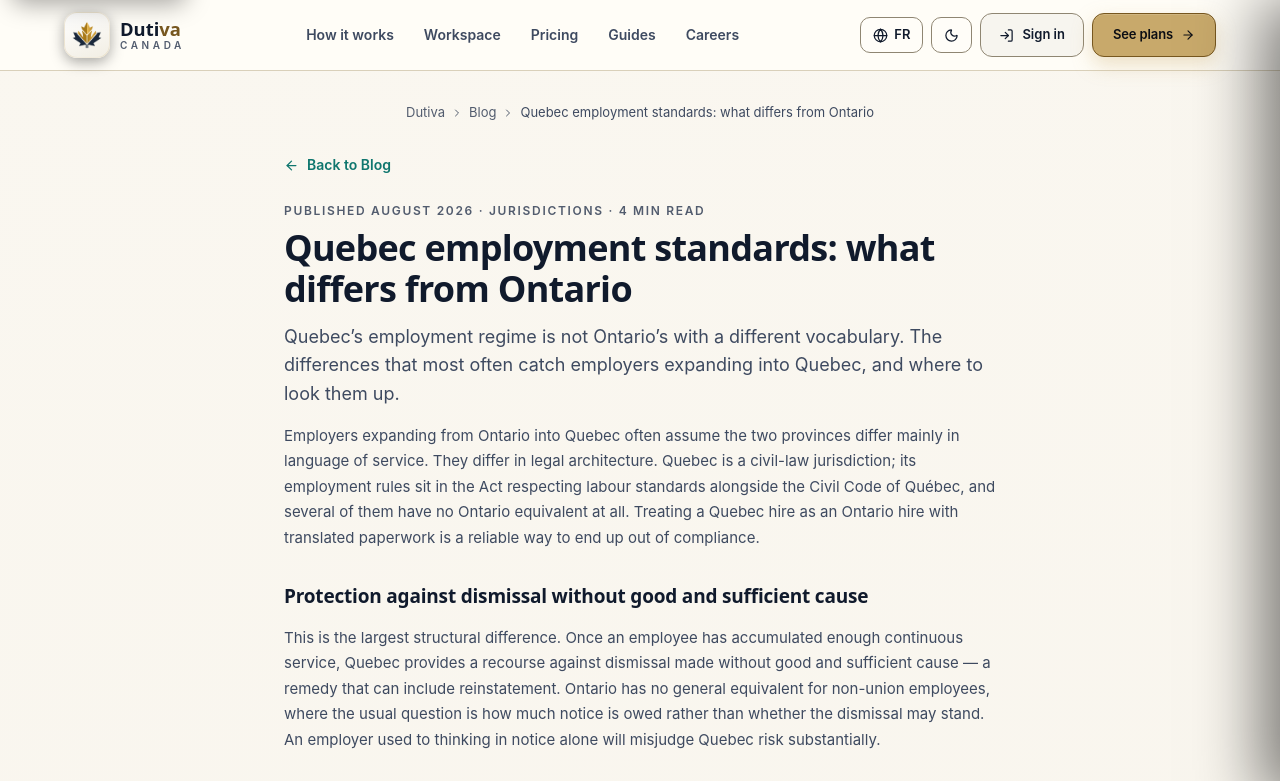
Test: ArticlePage › renders French copy and French links once the language is French
Click the button with aria-label "Toggle language" at (892, 35), box 860,17 -> 923,53
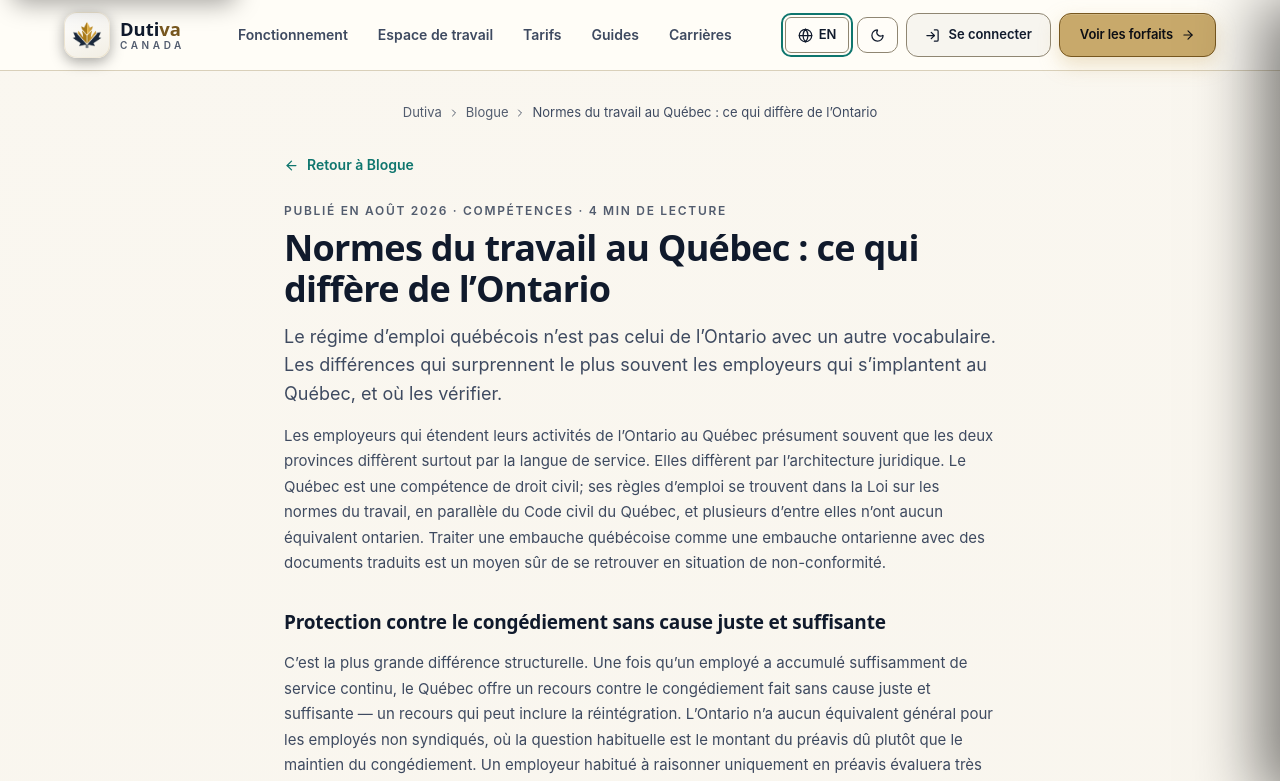
Result: the heading "Normes du travail au Québec : ce qui diffère de l’Ontario" is shown at 284,226 -> 996,309
Result: the text "Le régime d’emploi québécois n’est pas celui de l’Ontario avec un autre vocabulaire. Les différences qui surprennent le " is shown at 284,326 -> 996,404
Result: the text "Publié en août 2026" is shown at 284,202 -> 448,218
